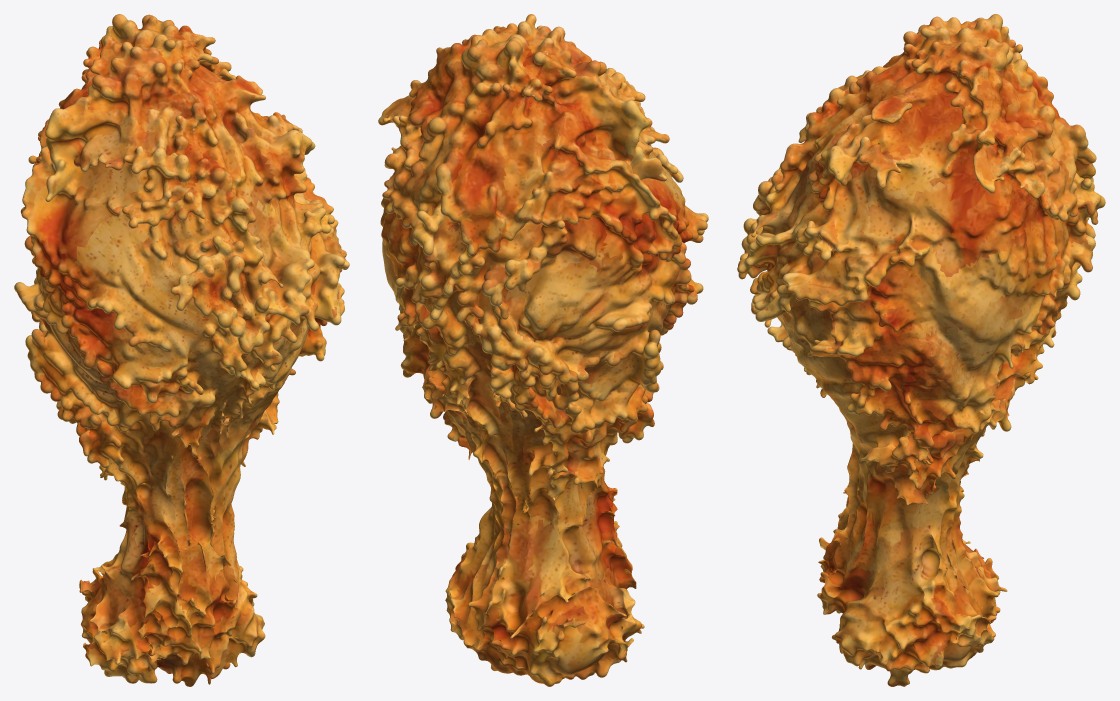
The model's file is friend_checken2.glb.
3 views of the same model, side by side, from view 1: azimuth 30°, elevation 25°; view 2: azimuth 150°, elevation 25°; view 3: azimuth 270°, elevation 25° (orthographic). The views are drawn at different scales.
Parts seen in each view (by area): view 1: Mesh_0.001; view 2: Mesh_0.001; view 3: Mesh_0.001.
Boxes of the visible parts, left/top/right/bottom form: Mesh_0.001: left=14, top=14, right=349, bottom=686; Mesh_0.001: left=378, top=14, right=708, bottom=686; Mesh_0.001: left=737, top=14, right=1105, bottom=686.
Size of the model in its own units: 0.8631 by 1.88 by 0.9728.
Materials: 1 (1 with a texture image).
